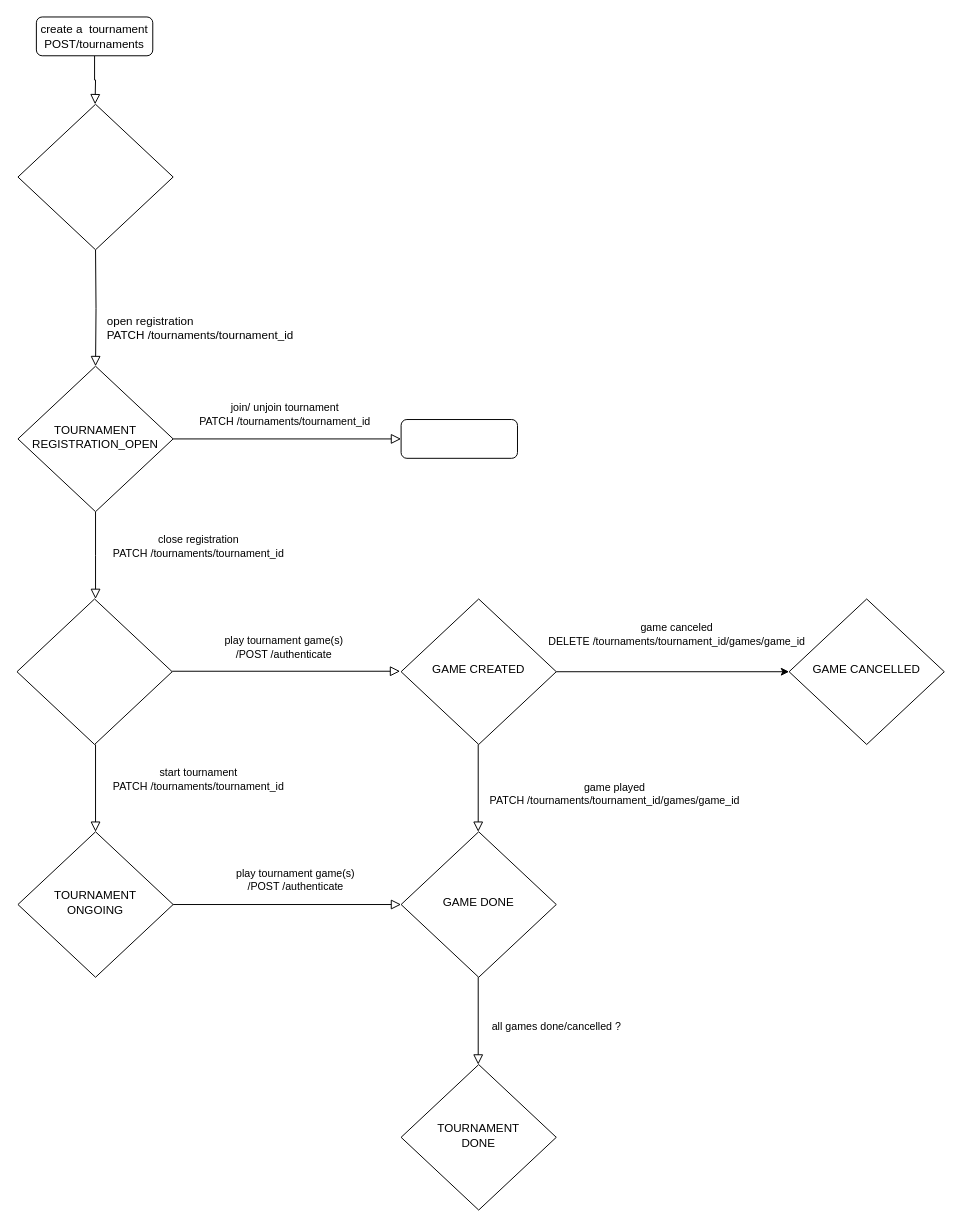
This 961x1227 diagram has some shape labels left out. Here are the shapes that lost their labels. From the top down, the box of each, then its label:
(17, 103, 173, 250): TOURNAMENT CREATED
(400, 419, 517, 458): User(s) can join tournament
(16, 598, 172, 744): TOURNAMENT REGISTRATION_CLOSED
